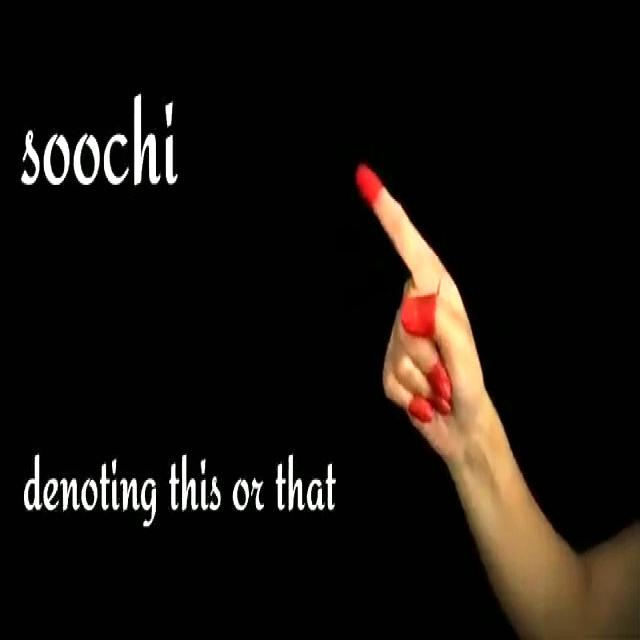Suchi: (328, 131, 504, 447)
text: (20, 442, 338, 527), (10, 92, 197, 204)
